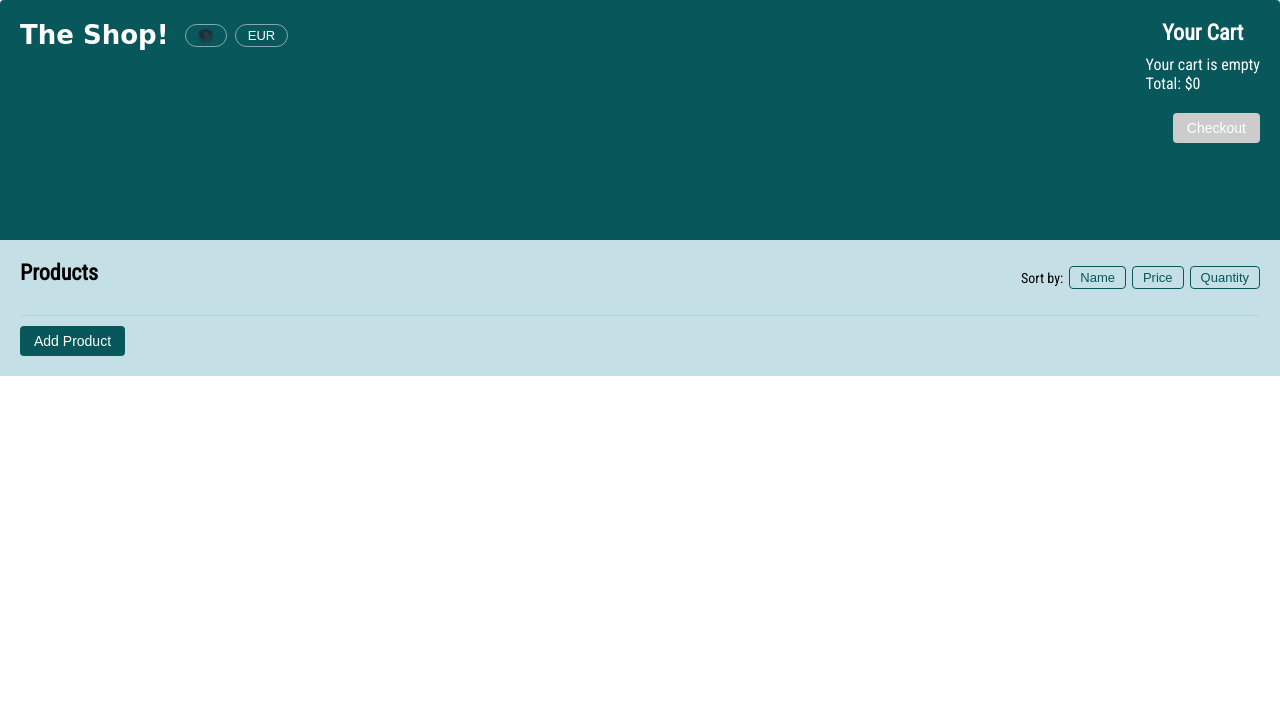
Scenario: Adding a product changes product list
Click the button "Add Product" at [73, 341], box [20, 326, 125, 356]
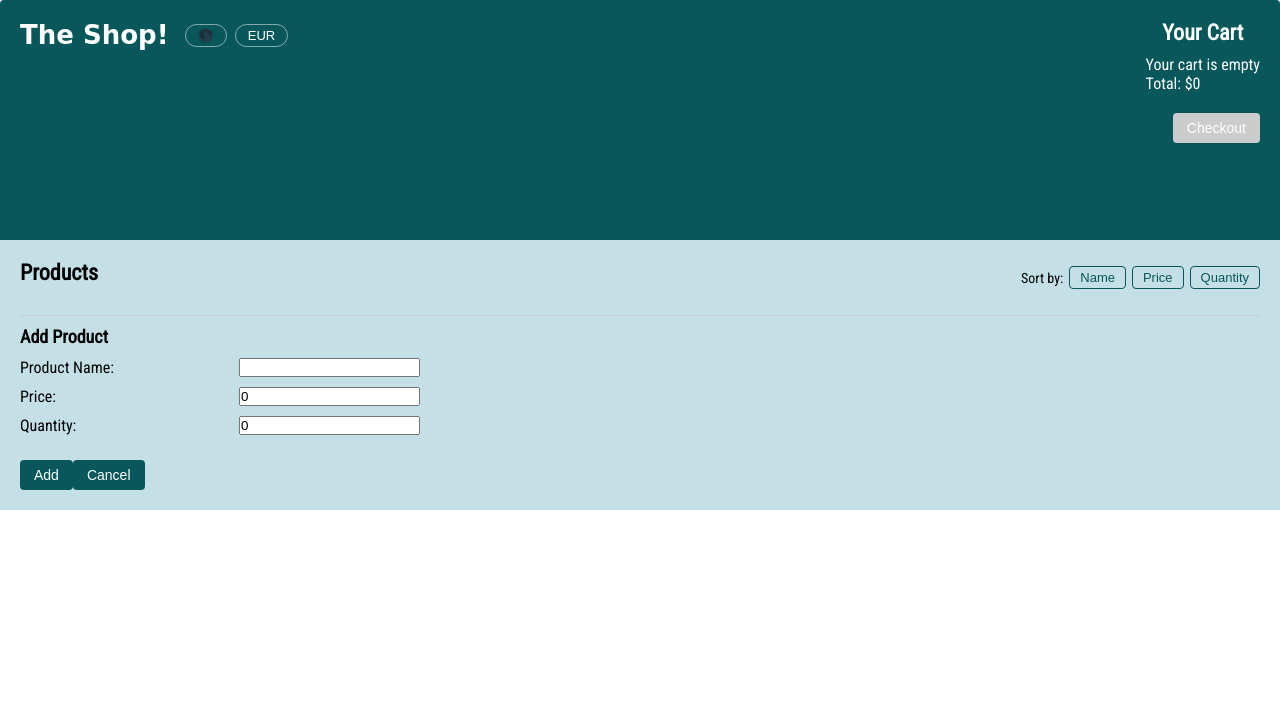
Expected: the button "Add" is shown
Click the button "Add" at [46, 475], box [20, 460, 73, 490]
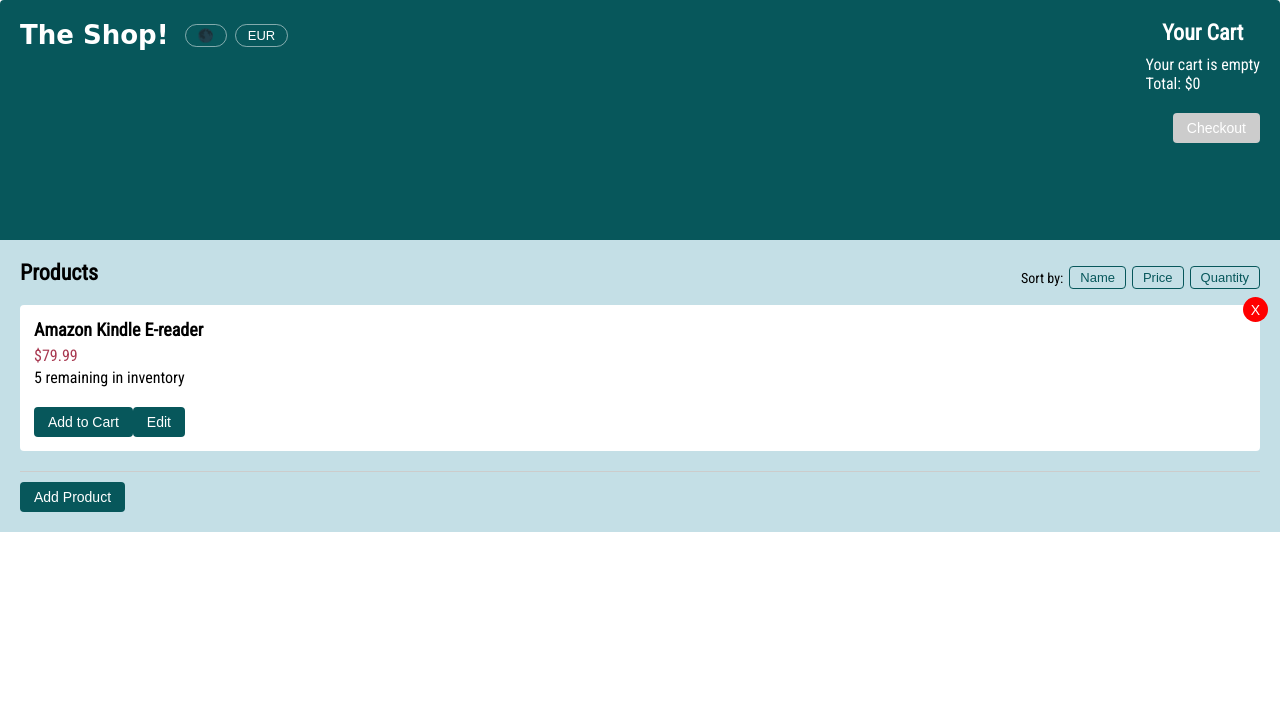
Expected: the heading "Amazon Kindle E-reader" is shown, [34, 319, 203, 340]
